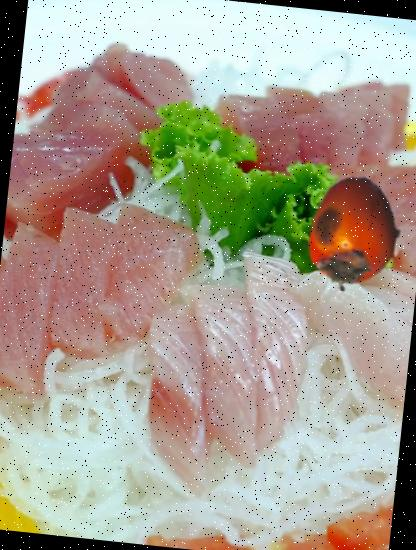Kaki: (290, 170, 416, 299)
